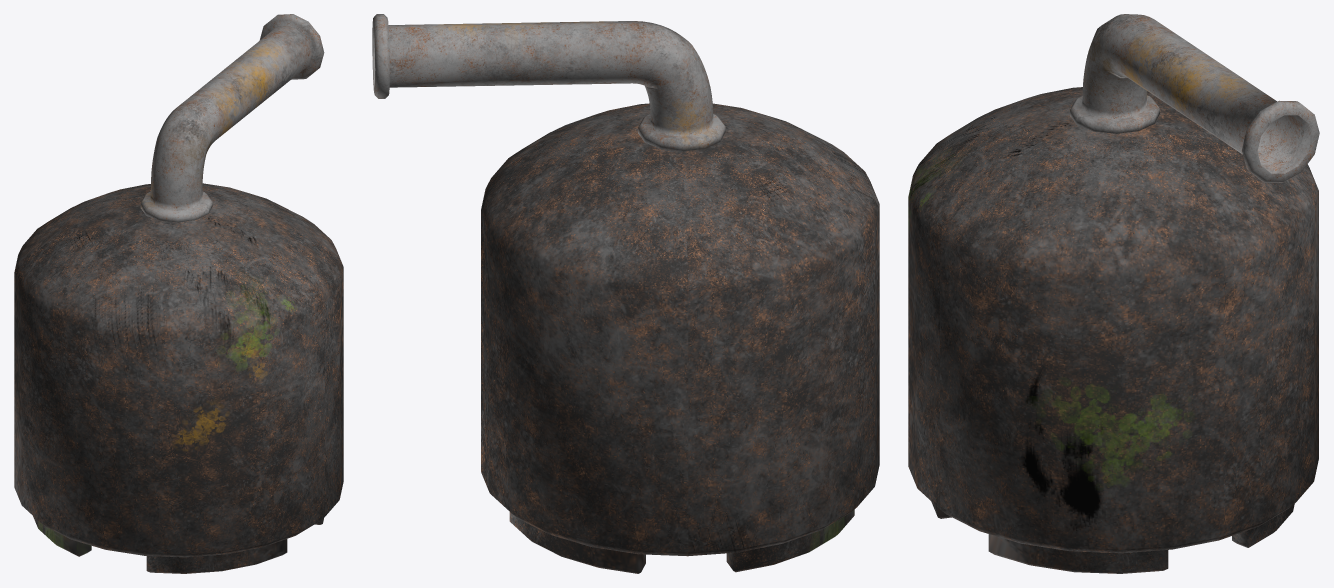
The model's file is Mini_citerne_01.FBX.
3 renders of one model, left to right at view 1: azimuth 30°, elevation 25°; view 2: azimuth 150°, elevation 25°; view 3: azimuth 270°, elevation 25°, orthographic. The views are drawn at different scales.
Visible parts, largest first — view 1: Citerne001, Tube_citerne_001; view 2: Citerne001, Tube_citerne_001; view 3: Citerne001, Tube_citerne_001.
Part boxes in pixels (<box>): Citerne001: <box>14,183,343,573</box>; Tube_citerne_001: <box>140,14,324,222</box>; Citerne001: <box>481,103,879,573</box>; Tube_citerne_001: <box>372,14,725,151</box>; Citerne001: <box>908,87,1318,573</box>; Tube_citerne_001: <box>1070,14,1319,182</box>.
Bounding box in the file's own units: 63.8 × 72.28 × 53.35.
2 materials, 2 textured.
